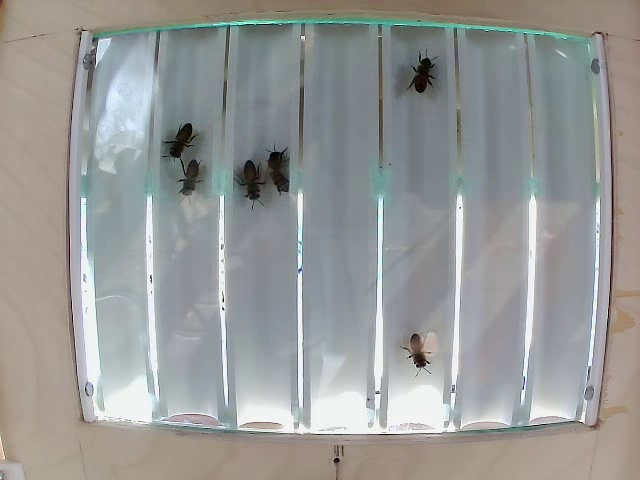bee: (154, 112, 207, 156), (268, 144, 297, 201), (239, 159, 269, 207), (413, 58, 439, 106), (397, 334, 428, 374), (173, 162, 204, 199)
